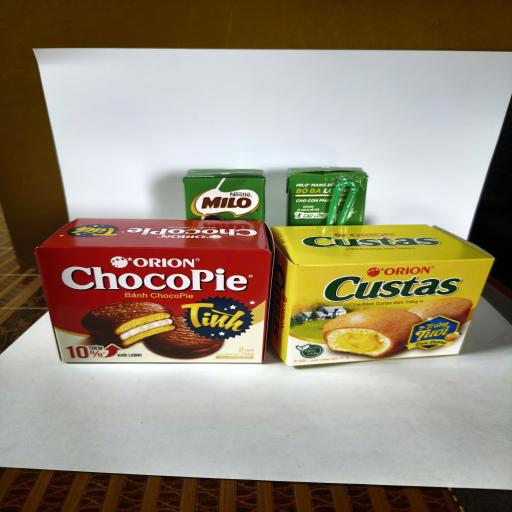chocopie: (35, 218, 285, 364)
custas: (270, 224, 496, 367)
milo: (286, 167, 368, 226), (183, 169, 266, 221)
